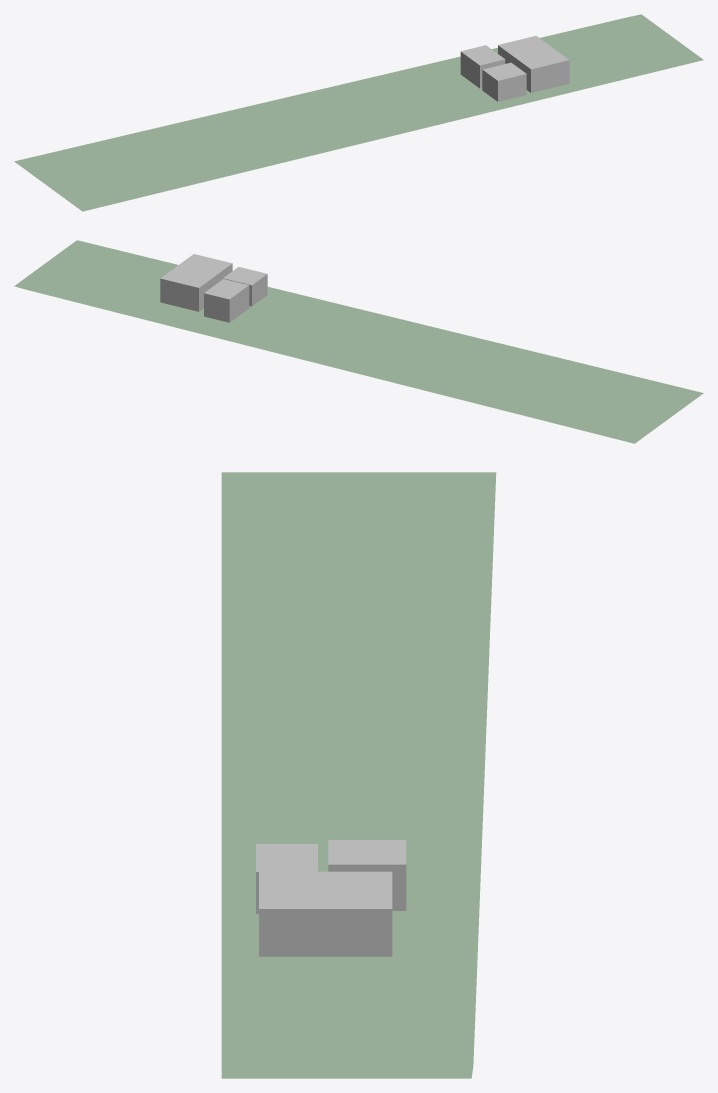
The model's file is 122_127_mid.glb.
The picture shows the model from 3 angles, top to bottom: view 1: azimuth 30°, elevation 25°; view 2: azimuth 150°, elevation 25°; view 3: azimuth 270°, elevation 25°; orthographic projection. The views are drawn at different scales.
Size of the model in its own units: 500 by 18.5 by 95.66.
